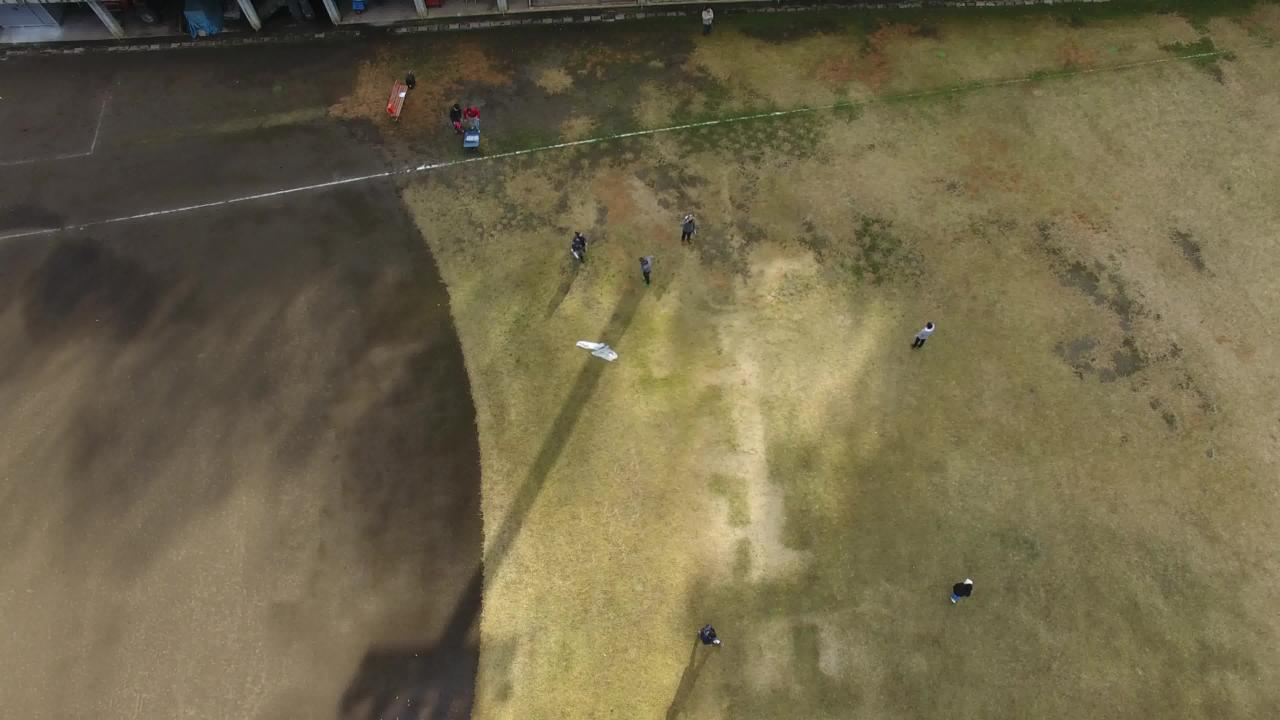person: (436, 93, 463, 145), (463, 91, 490, 143), (693, 613, 720, 665), (911, 309, 938, 361), (629, 238, 656, 290), (673, 205, 700, 257), (566, 223, 593, 275), (693, 1, 720, 52)
person is sitting: (948, 568, 975, 620)
